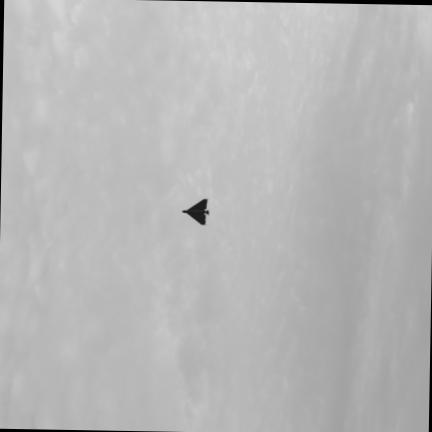Shahed: (182, 198, 208, 223)
